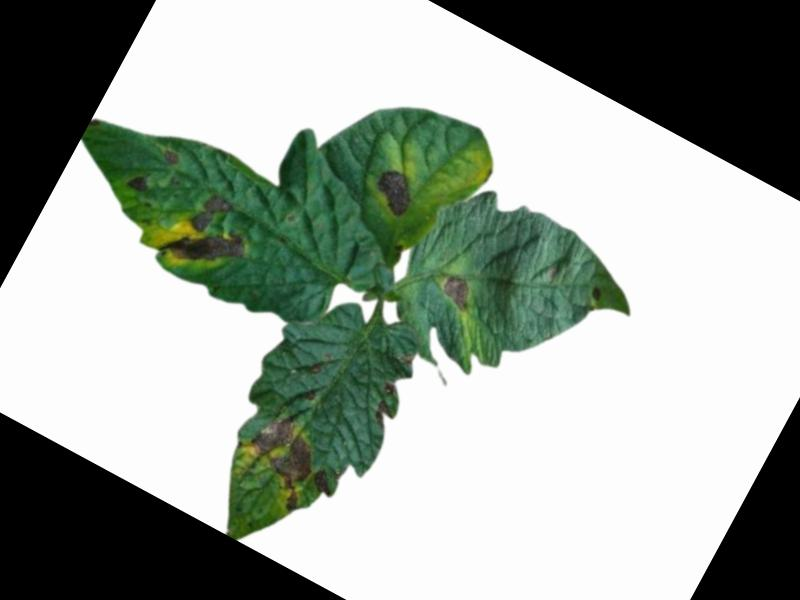Early_blight: (229, 406, 335, 514), (157, 181, 265, 287), (368, 165, 420, 219), (365, 379, 406, 429), (438, 272, 480, 311), (306, 466, 340, 500), (123, 168, 154, 197), (161, 145, 185, 167), (589, 285, 607, 304)
